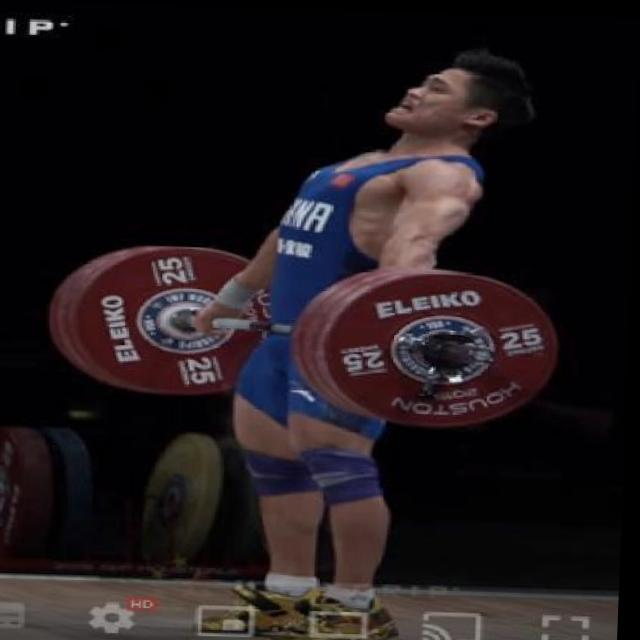barbell: (314, 264, 568, 431)
